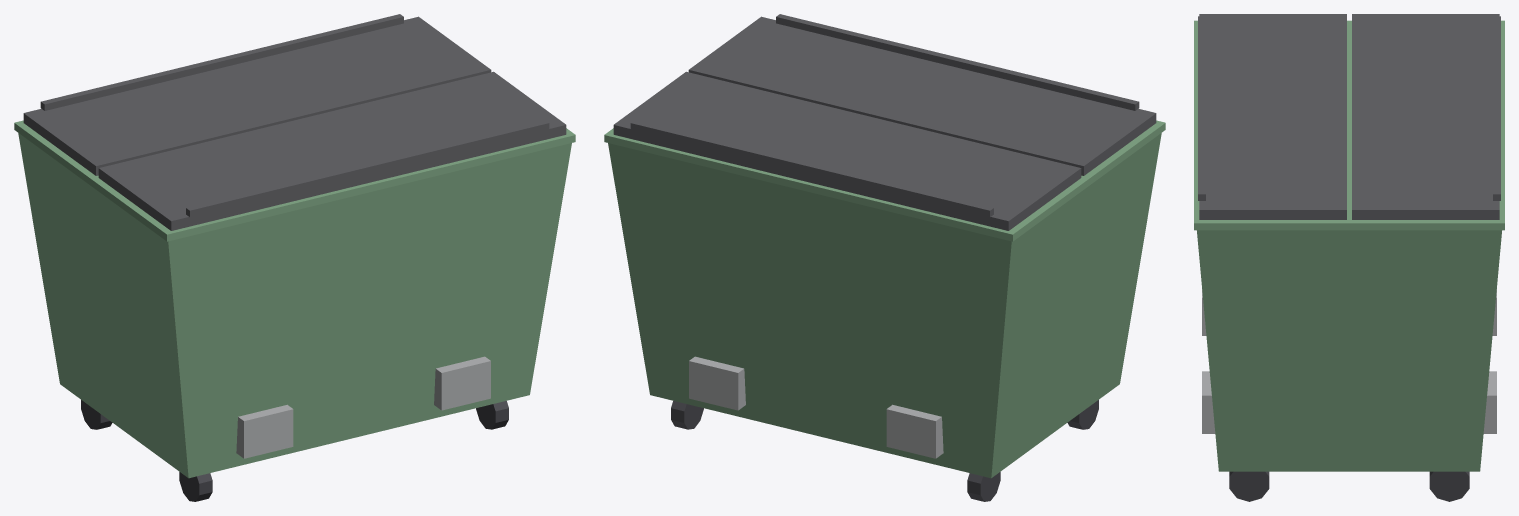
File: dumpster.glb
The picture shows the model from 3 angles, left to right: view 1: azimuth 30°, elevation 25°; view 2: azimuth 150°, elevation 25°; view 3: azimuth 270°, elevation 25°; orthographic projection.
Parts seen in each view (by area): view 1: NC_dumpster; view 2: NC_dumpster; view 3: NC_dumpster.
Part boxes in pixels (x1=…): NC_dumpster: x1=14, y1=14, x2=575, y2=501; NC_dumpster: x1=604, y1=14, x2=1165, y2=501; NC_dumpster: x1=1194, y1=14, x2=1504, y2=501.
Bounding box in the file's own units: 1.82 × 1.34 × 1.18.
